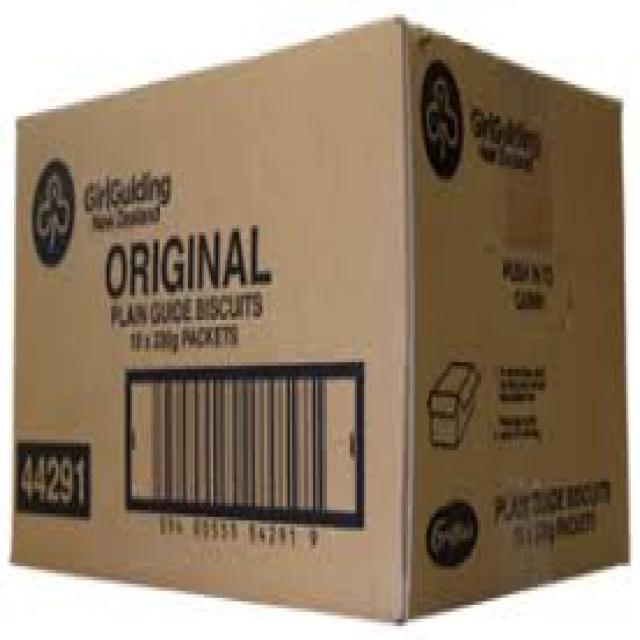PaperCardboard: (21, 17, 632, 623)
